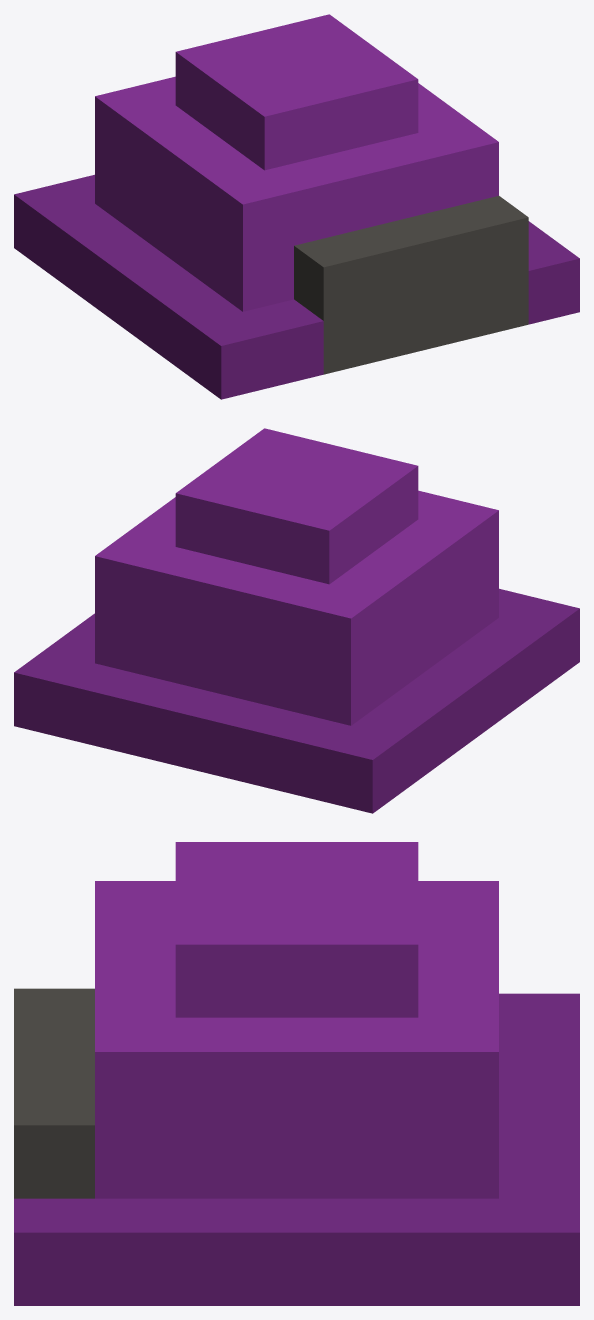
The model's file is legendario_casco_cultista_01.glb.
The picture shows the model from 3 angles, top to bottom: view 1: azimuth 30°, elevation 25°; view 2: azimuth 150°, elevation 25°; view 3: azimuth 270°, elevation 25°; orthographic projection. The views are drawn at different scales.
Visible parts, largest first — view 1: legendario_casco_cultista; view 2: legendario_casco_cultista; view 3: legendario_casco_cultista.
Boxes of the visible parts, box(x1,y1,x2,y2) form: legendario_casco_cultista: box(14, 14, 579, 399); legendario_casco_cultista: box(14, 428, 579, 813); legendario_casco_cultista: box(14, 842, 579, 1305).
Size of the model in its own units: 0.5833 by 0.3333 by 0.5833.
